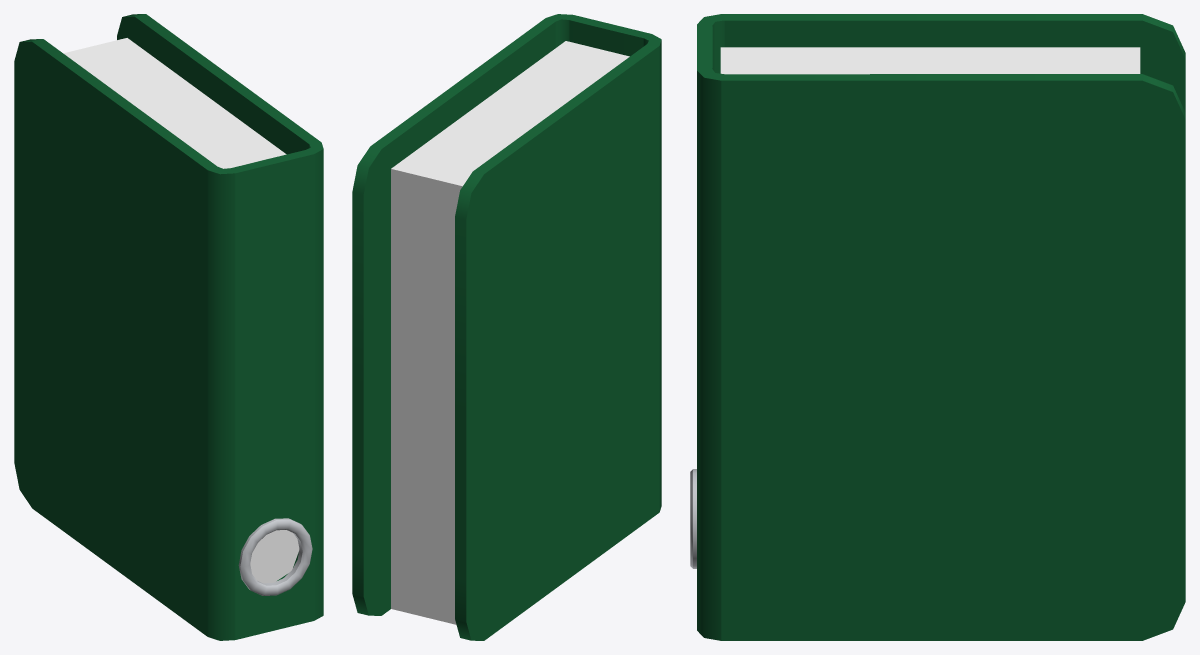
Rendered from Folder_4.fbx.
3 renders of one model, left to right at view 1: azimuth 30°, elevation 25°; view 2: azimuth 150°, elevation 25°; view 3: azimuth 270°, elevation 25°, orthographic. The views are drawn at different scales.
Visible parts, largest first — view 1: Folder_4; view 2: Folder_4; view 3: Folder_4.
Boxes of the visible parts, box(x1,y1,x2,y2) form: Folder_4: box(14, 14, 323, 640); Folder_4: box(352, 14, 661, 640); Folder_4: box(690, 14, 1185, 640).
Bounding box in the file's own units: 0.1004 × 0.3932 × 0.3152.
